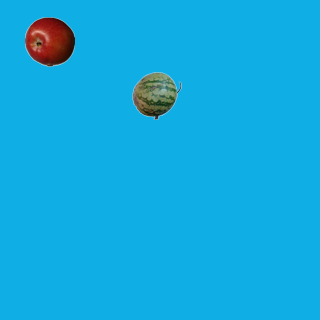Apple Braeburn: (24, 16, 74, 66)
Watermelon: (131, 70, 181, 120)
